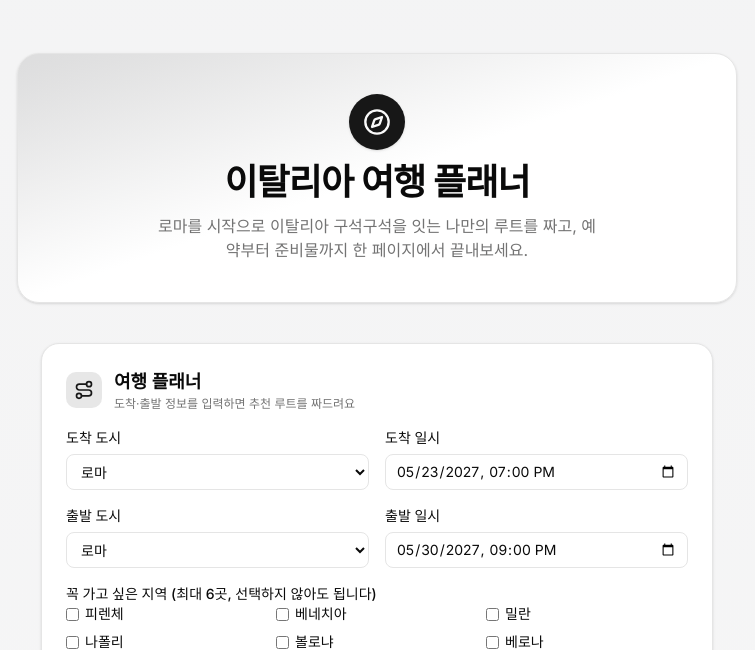
Test: 도착/출발 도시와 일시를 입력하면 추천 루트가 나온다
Expected: the heading "이탈리아 여행 플래너" is shown, [224,162,530,202]
Select "베네치아" in the dropdown labelled "출발 도시" at coordinates (218, 550), box [66,532,369,568]
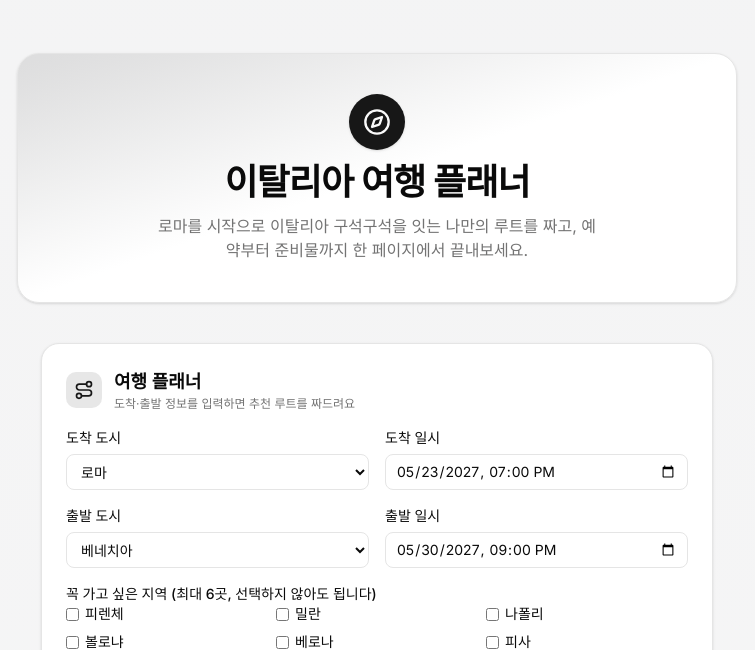
Replace the text in the field labelled "도착 일시" with "2026-09-10T14:00" at coordinates (536, 472), box [385,454,688,490]
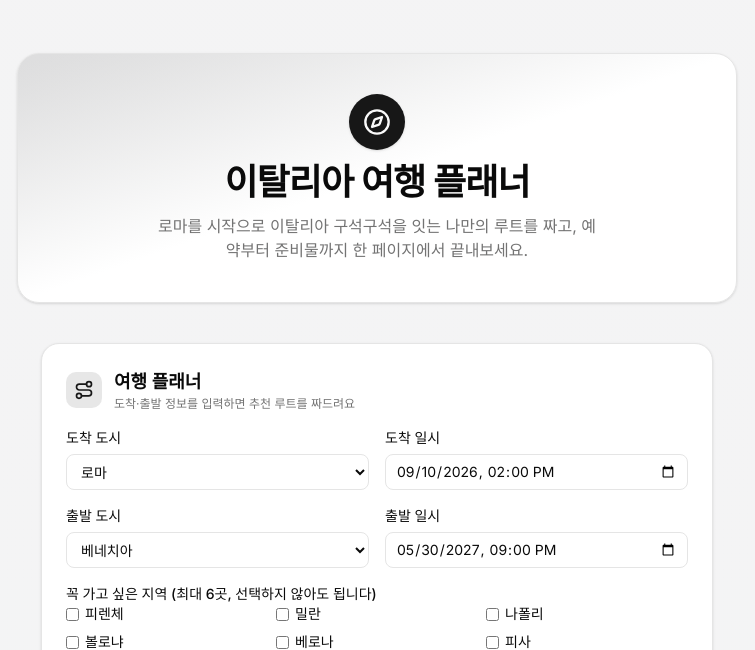
Replace the text in the field labelled "출발 일시" with "2026-09-18T09:00" at coordinates (536, 550), box [385,532,688,568]
(page scrolled)
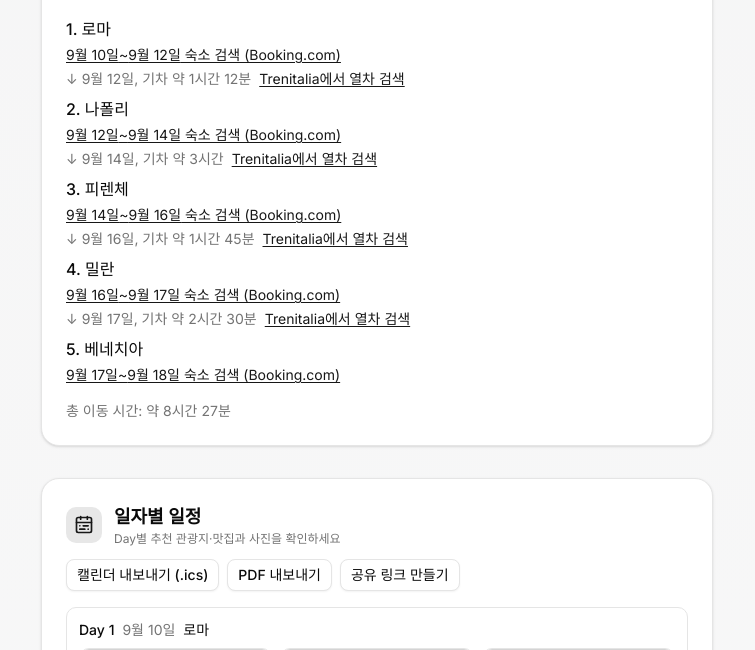
Expected: the text "1. 로마" is shown, [66,19,111,39]
Expected: the text "5. 베네치아" is shown, [66,339,143,359]
